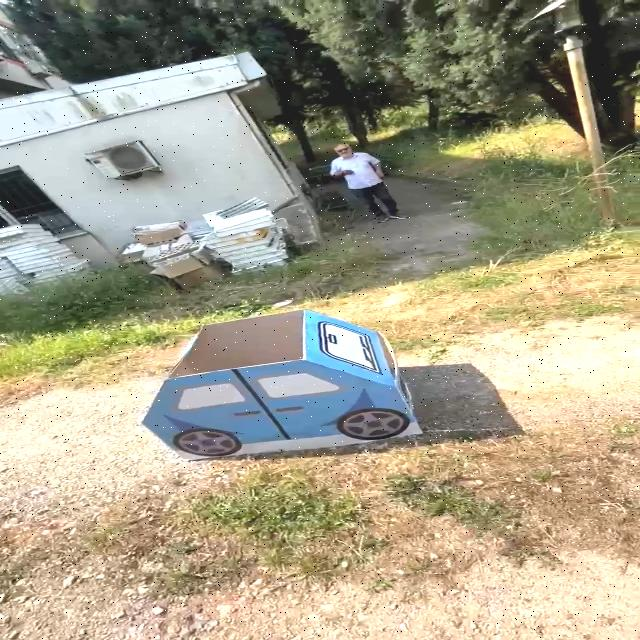blue_car: (123, 300, 437, 482)
